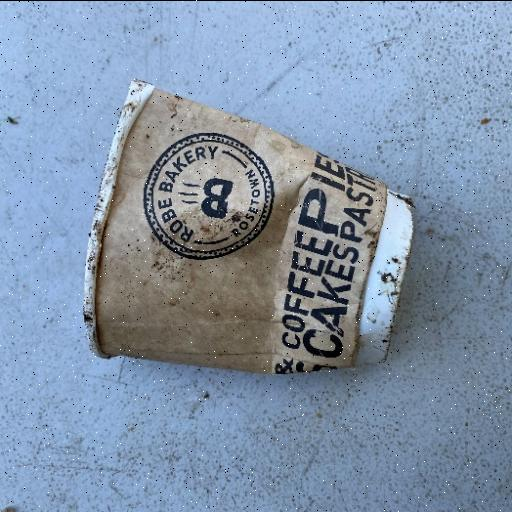Cardboard: (81, 77, 416, 376)
